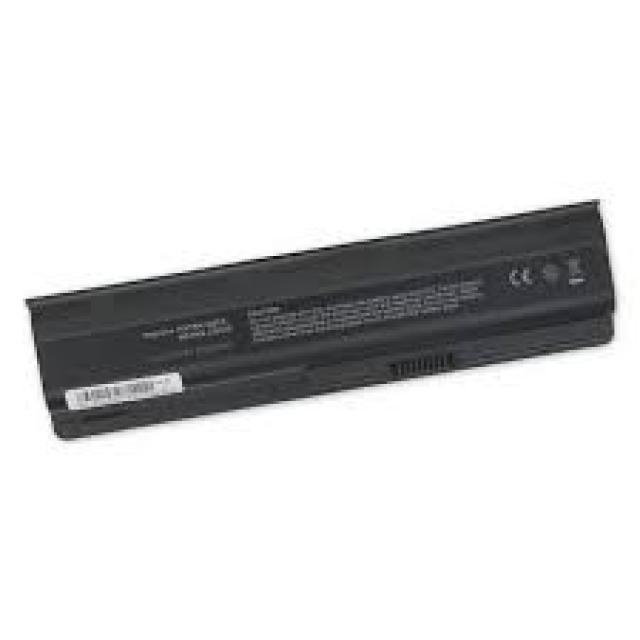Battery: (11, 185, 636, 480)
